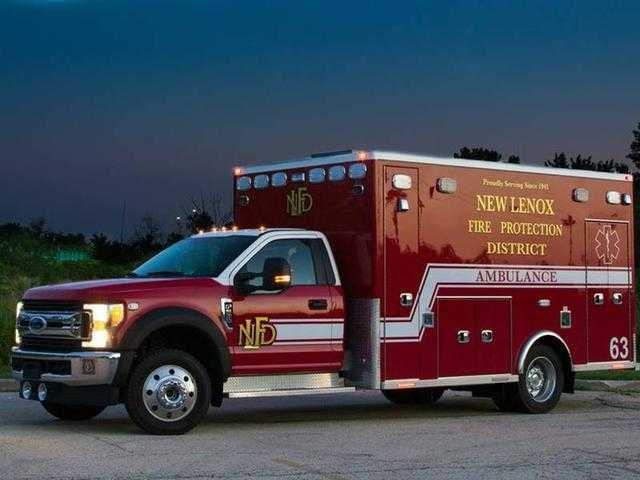Fire Truck: (36, 157, 636, 430)
